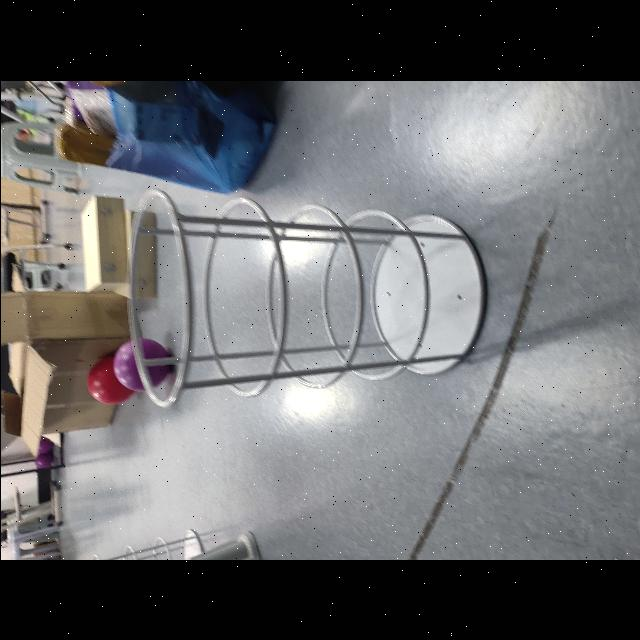S: (124, 184, 486, 408)
